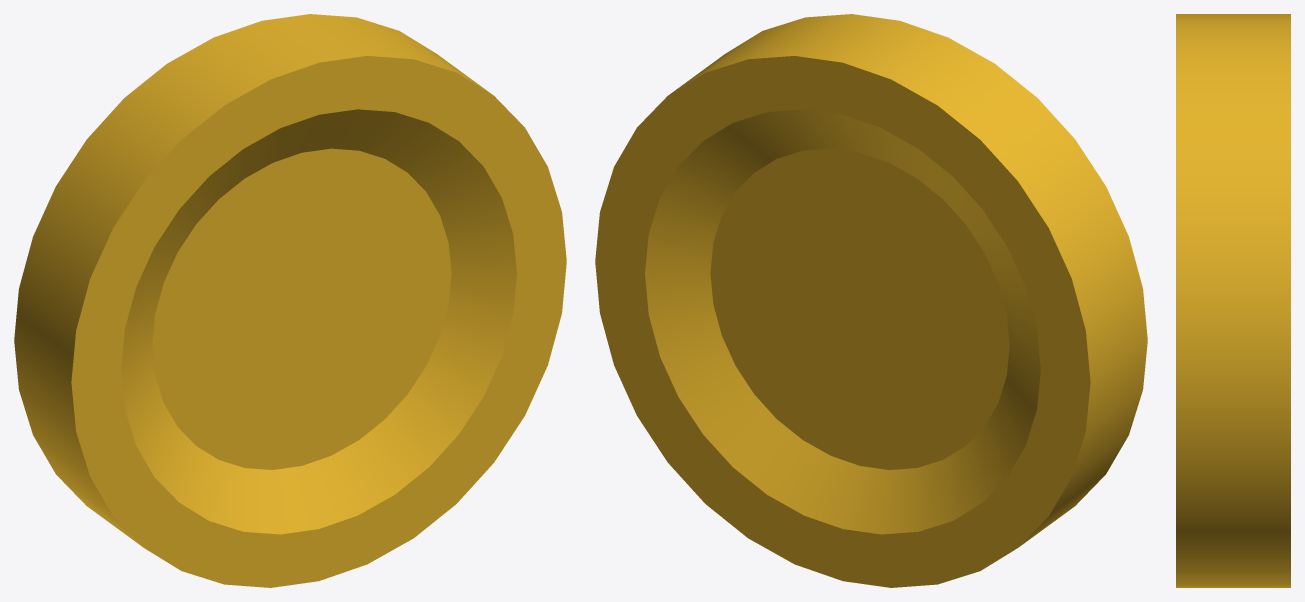
Rendered from Coin.fbx.
3 renders of one model, left to right at view 1: azimuth 30°, elevation 25°; view 2: azimuth 150°, elevation 25°; view 3: azimuth 270°, elevation 25°, orthographic.
Parts seen in each view (by area): view 1: Coin; view 2: Coin; view 3: Coin.
Boxes of the visible parts, <box> form: Coin: <box>14,14,566,587</box>; Coin: <box>595,14,1147,587</box>; Coin: <box>1176,14,1290,587</box>.
Bounding box in the file's own units: 200 × 200 × 40.
